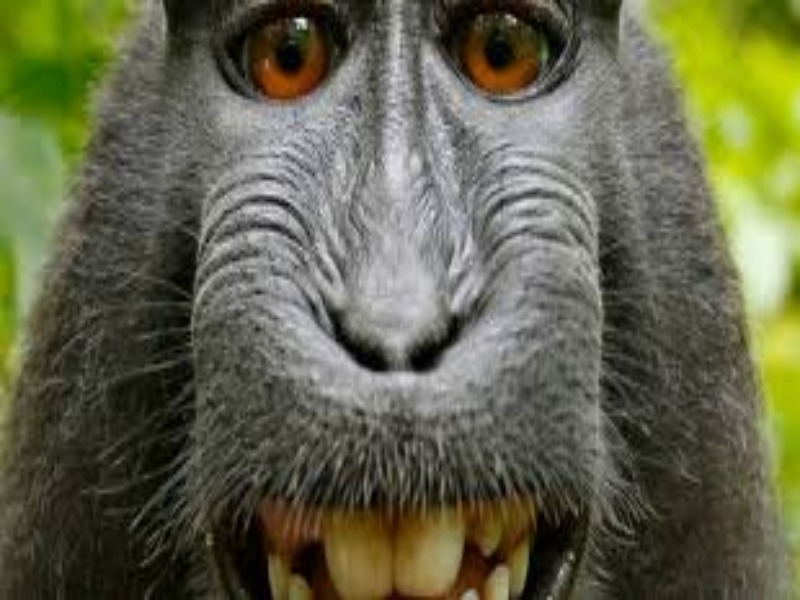monkey: (16, 1, 773, 594)
